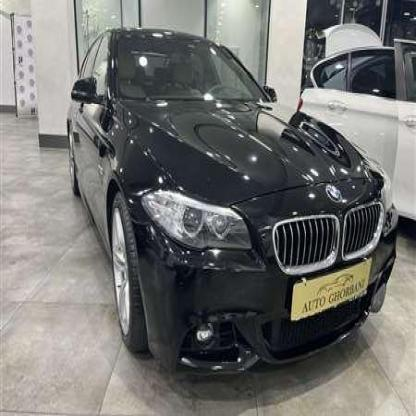Car: (67, 31, 398, 377), (309, 22, 416, 216)
